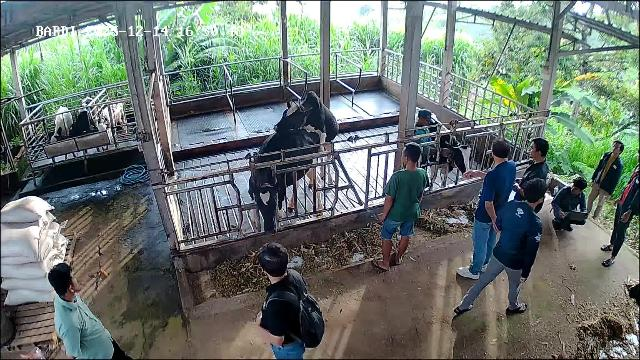mounting: (270, 88, 341, 183)
